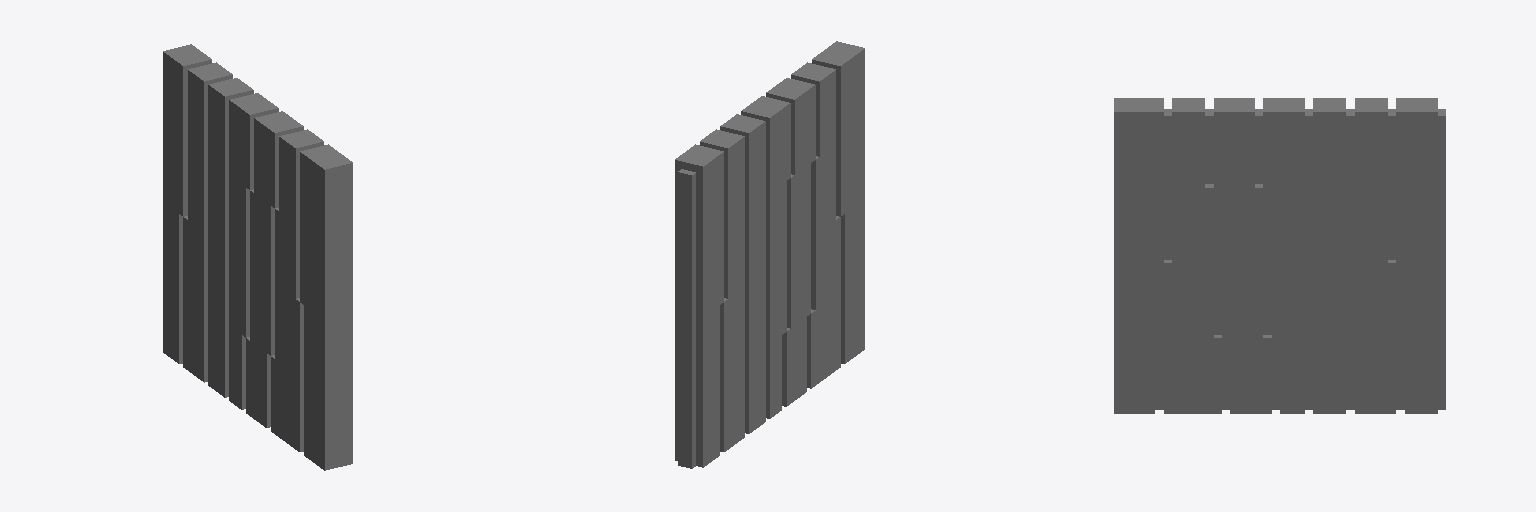
3 renders of one model, left to right at view 1: azimuth 30°, elevation 25°; view 2: azimuth 150°, elevation 25°; view 3: azimuth 270°, elevation 25°, orthographic.
Parts seen in each view (by area): view 1: outside wall; view 2: outside wall; view 3: outside wall.
Part boxes in pixels (x1,y1,x2,y2): outside wall: (163, 44, 352, 470); outside wall: (675, 41, 864, 468); outside wall: (1114, 98, 1445, 413).
Size of the model in its own units: 4 by 40 by 40.
1 materials, 1 textured.